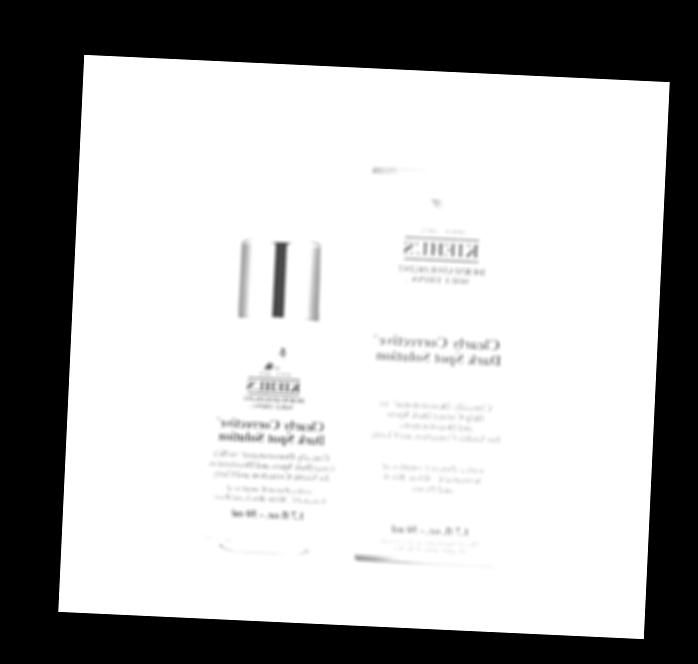cosmetic: (202, 168, 342, 545)
